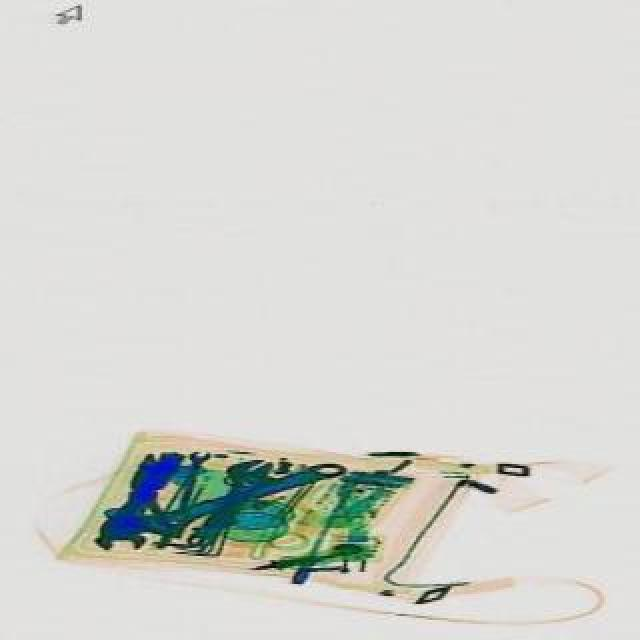scissors: (100, 444, 356, 556), (182, 444, 284, 556), (104, 454, 174, 554), (176, 446, 216, 508)
